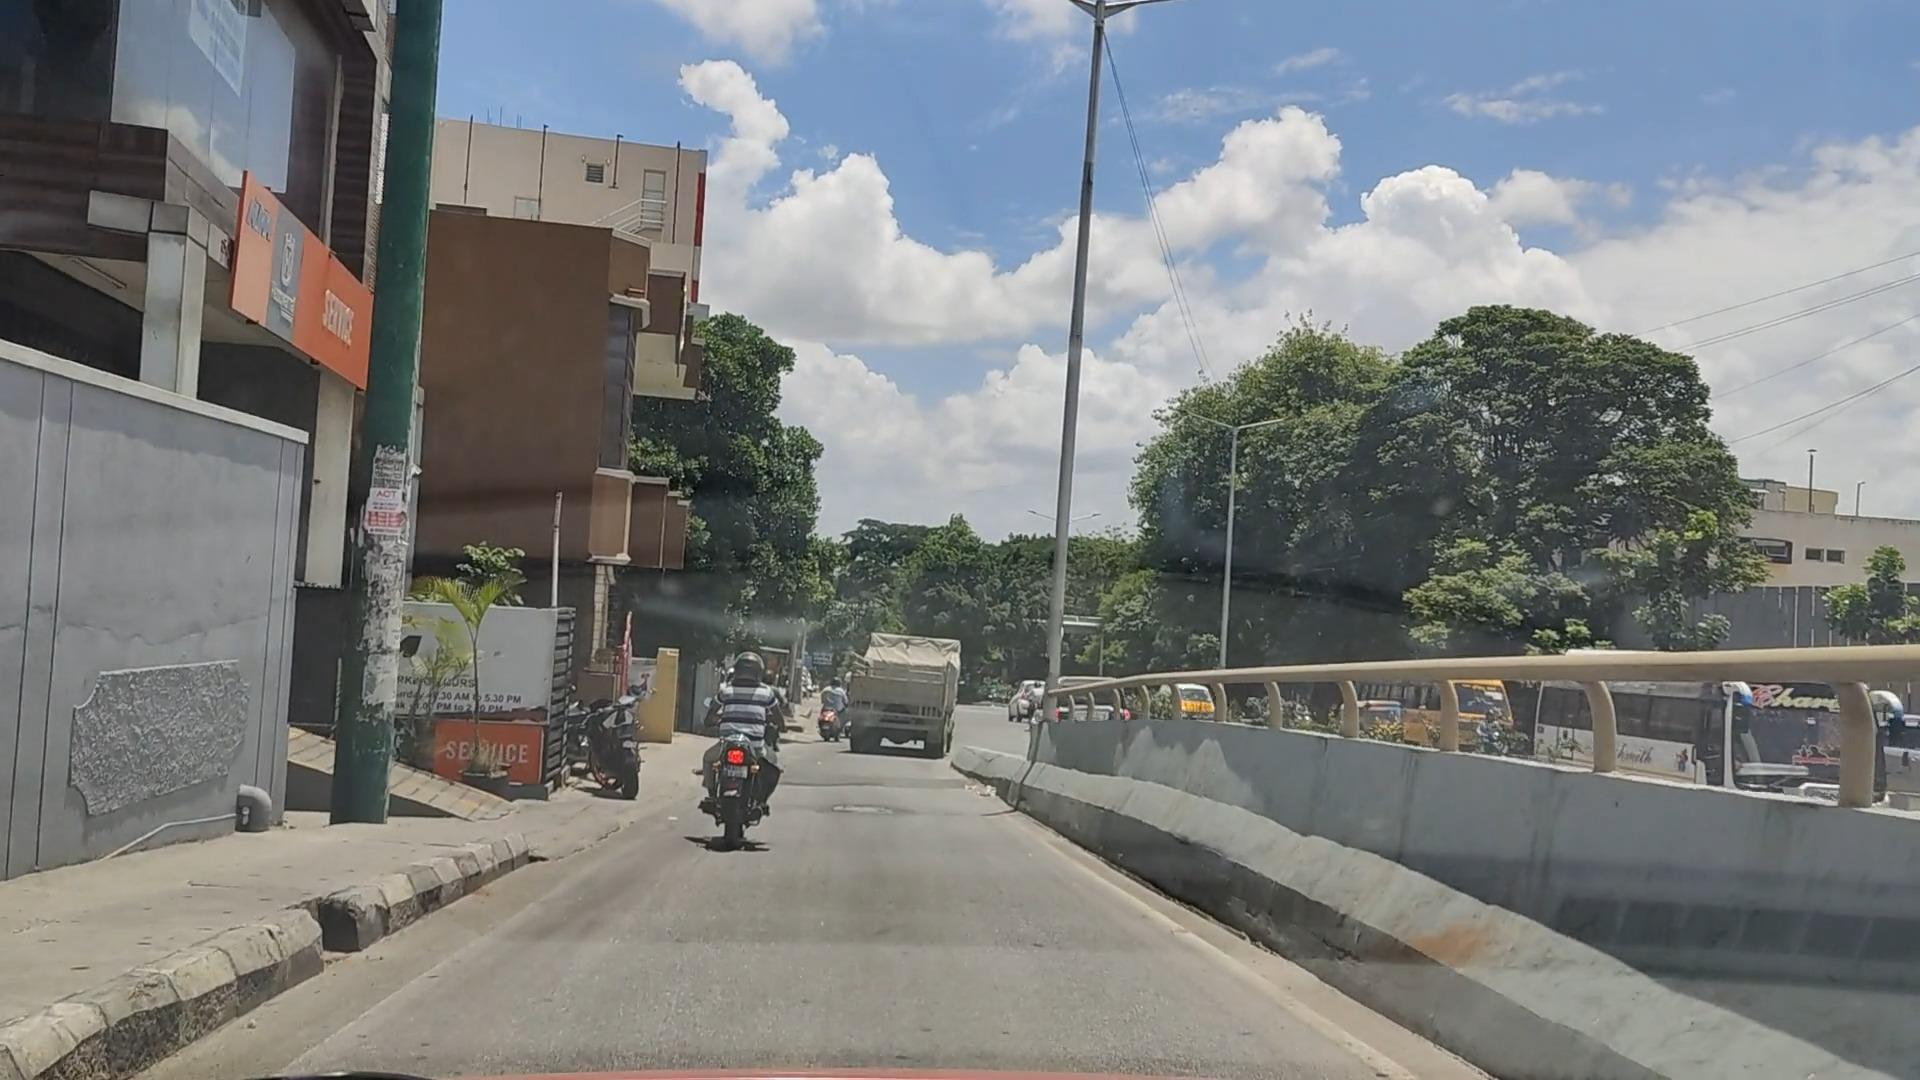HMV: (844, 620, 971, 777)
